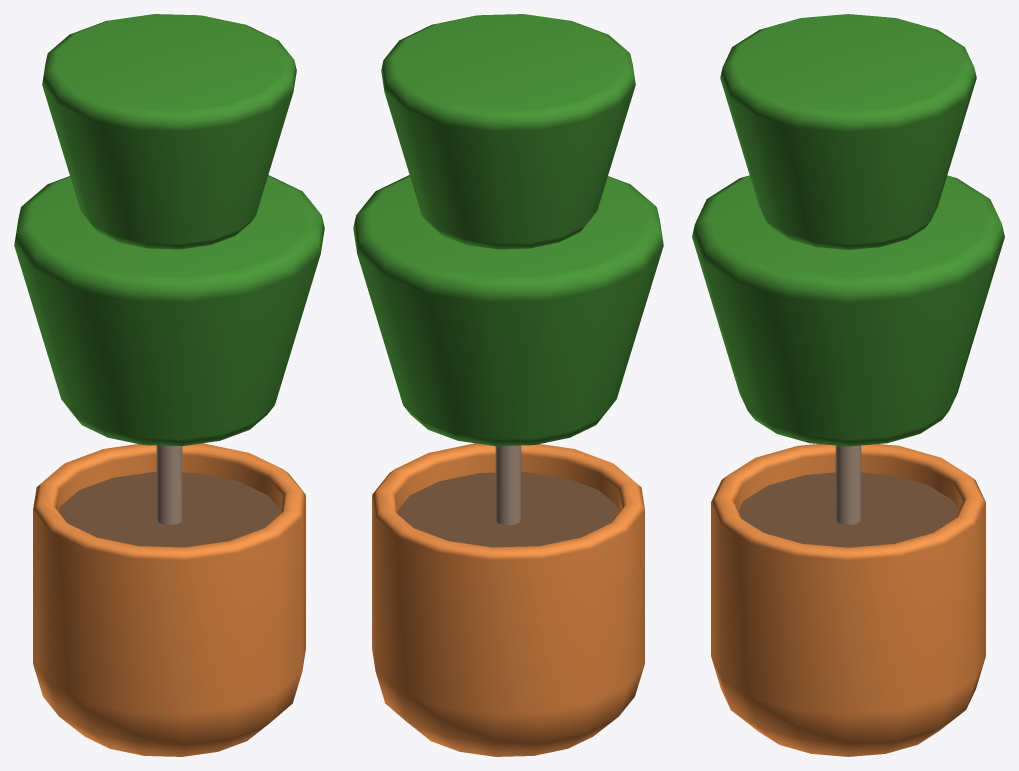
The model's file is Plant_38.glb.
The picture shows the model from 3 angles, left to right: view 1: azimuth 30°, elevation 25°; view 2: azimuth 150°, elevation 25°; view 3: azimuth 270°, elevation 25°; orthographic projection.
Visible parts, largest first — view 1: Plant_38; view 2: Plant_38; view 3: Plant_38.
Boxes of the visible parts, left/top/right/bottom form: Plant_38: left=14, top=14, right=324, bottom=756; Plant_38: left=353, top=14, right=663, bottom=756; Plant_38: left=692, top=14, right=1004, bottom=756.
Bounding box in the file's own units: 0.4438 × 1.04 × 0.4438.
Materials: 1 (1 with a texture image).
